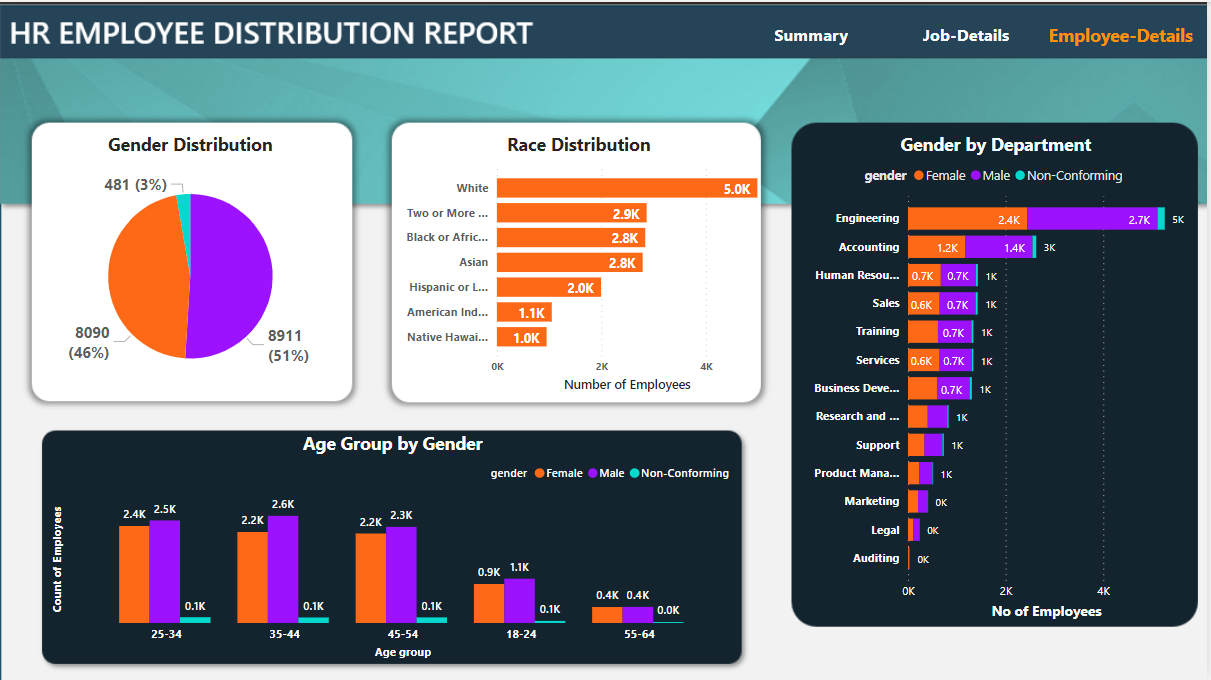

The dashboard page shown, as its layout file describes it:
{"tool":"powerbi","page":{"name":"Employee-Details","canvas":[1280,720],"ordinal":2},"visuals":[{"type":"pieChart","title":"Gender Distribution","fields":{"Category":["Gender.gender"],"Y":["Sum(Gender.count)"]},"box":[39.7,138.3,325.8,279.7],"z":0},{"type":"clusteredColumnChart","title":"Age Group by Gender","fields":{"Series":["Age_group_gender.gender"],"Category":["Age_group_gender.age_group"],"Y":["Sum(Age_group_gender.count)"]},"box":[50.9,454.6,732.7,246.4],"z":1000},{"type":"clusteredBarChart","title":"Race Distribution","fields":{"Category":["Race.race"],"Y":["Sum(Race.count)"]},"box":[413.2,138.3,402.1,279.7],"z":2000},{"type":"barChart","title":"Gender by Department","fields":{"Series":["gender_departments.gender"],"Category":["gender_departments.department"],"Y":["Sum(gender_departments.count)"]},"box":[844,138.3,424.4,521.3],"z":3000},{"type":"pageNavigator","box":[783.6,11.1,484.8,47.7],"z":3001}]}

Visuals, with their boxes in screenshot pixels (x1, y1, x2, y2), scaled from the page's 1280x720 canvas onto the 1211x680 screenshot:
"Gender Distribution" pieChart: {"x1": 38, "y1": 131, "x2": 346, "y2": 395}
"Age Group by Gender" clusteredColumnChart: {"x1": 48, "y1": 429, "x2": 741, "y2": 662}
"Race Distribution" clusteredBarChart: {"x1": 391, "y1": 131, "x2": 771, "y2": 395}
"Gender by Department" barChart: {"x1": 799, "y1": 131, "x2": 1200, "y2": 623}
pageNavigator: {"x1": 741, "y1": 10, "x2": 1200, "y2": 56}
